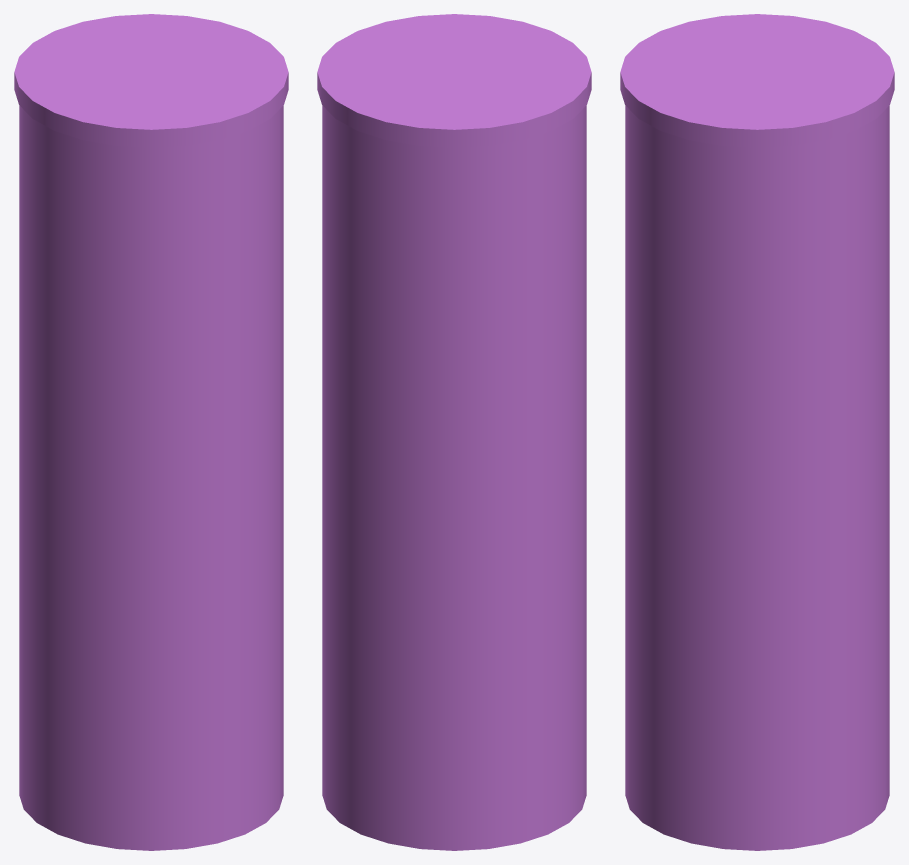
File: TuboPatatineCampagnolo.fbx
3 renders of one model, left to right at view 1: azimuth 30°, elevation 25°; view 2: azimuth 150°, elevation 25°; view 3: azimuth 270°, elevation 25°, orthographic.
Visible parts, largest first — view 1: TubettoPringles.001; view 2: TubettoPringles.001; view 3: TubettoPringles.001.
Part boxes in pixels (<box>): TubettoPringles.001: <box>14,14,288,850</box>; TubettoPringles.001: <box>317,14,591,850</box>; TubettoPringles.001: <box>620,14,894,850</box>.
Size of the model in its own units: 163 by 474 by 163.
